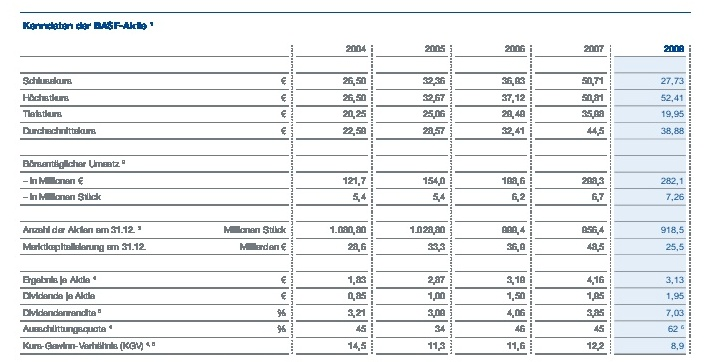table: (0, 0, 713, 362)
